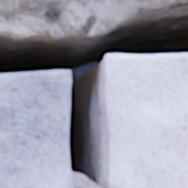brick: (100, 54, 187, 187), (0, 70, 71, 187)
crack: (0, 1, 187, 187)
